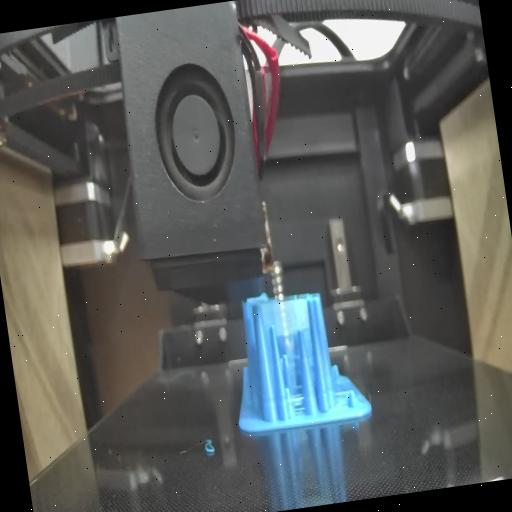stringing: (261, 293, 314, 341), (284, 386, 311, 420), (331, 388, 353, 401)
